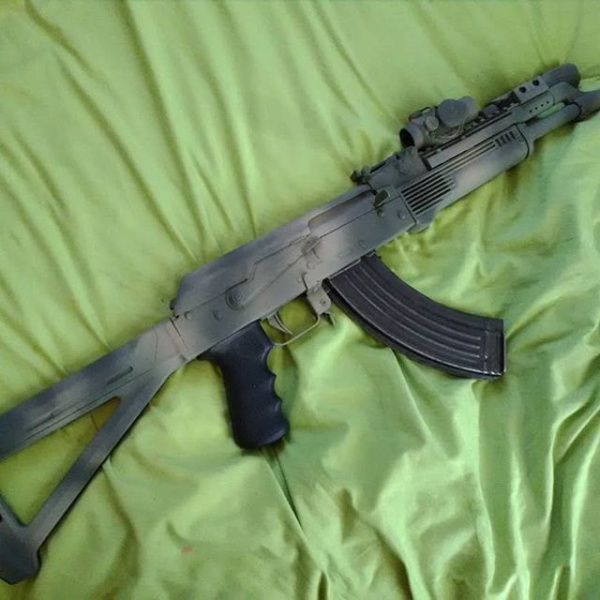ak47: (1, 48, 598, 575)
